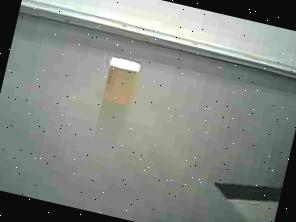Bottle B: (93, 50, 150, 114)
